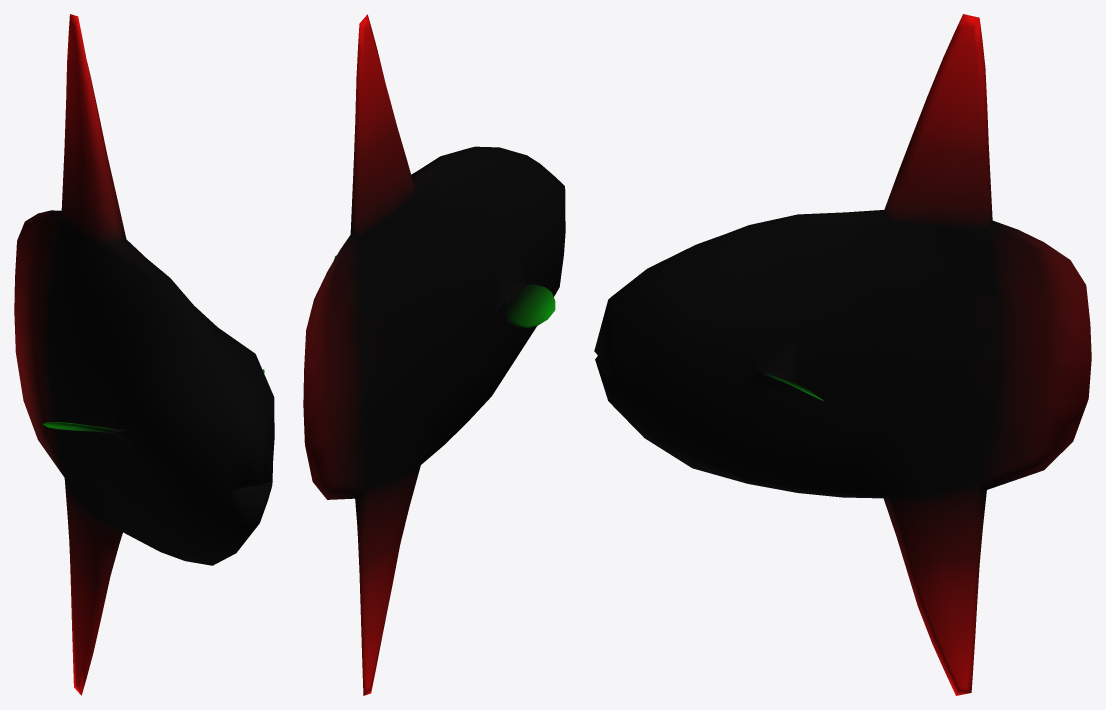
3 views of the same model, side by side, from view 1: azimuth 30°, elevation 25°; view 2: azimuth 150°, elevation 25°; view 3: azimuth 270°, elevation 25° (orthographic).
Parts seen in each view (by area): view 1: ocean sunfish final; view 2: ocean sunfish final; view 3: ocean sunfish final.
Part boxes in pixels (left/top/right/bottom): ocean sunfish final: left=14, top=14, right=274, bottom=695; ocean sunfish final: left=303, top=14, right=565, bottom=695; ocean sunfish final: left=594, top=14, right=1091, bottom=695.
Size of the model in its own units: 1.32 by 3.9 by 2.58.
